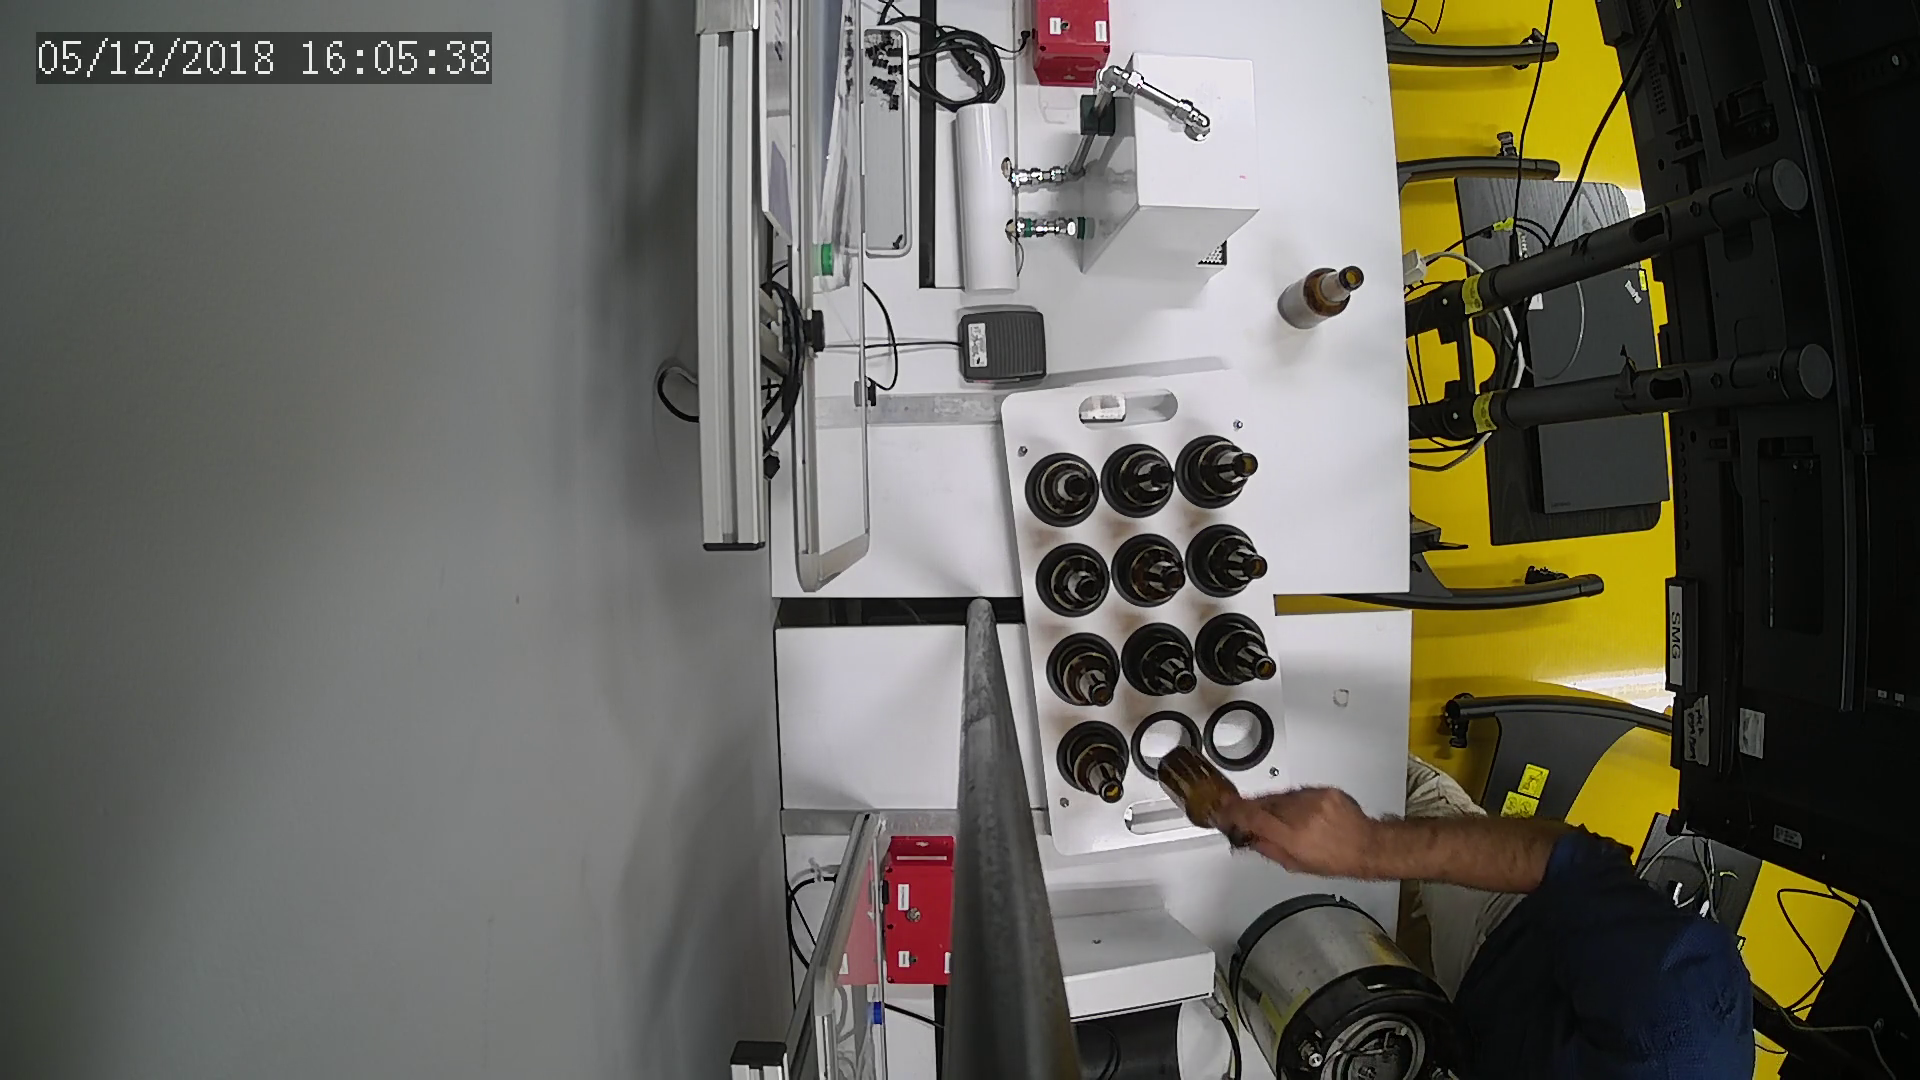filled_bottle: (1120, 624, 1208, 715), (1172, 429, 1261, 518), (1185, 518, 1279, 601), (1054, 717, 1133, 811), (1039, 630, 1124, 717), (1199, 611, 1284, 695), (1033, 535, 1108, 626), (1098, 438, 1179, 520), (1021, 448, 1104, 527), (1110, 531, 1191, 611)
trolley: (996, 367, 1304, 861)
unfilled_bottle: (1273, 258, 1371, 340)
